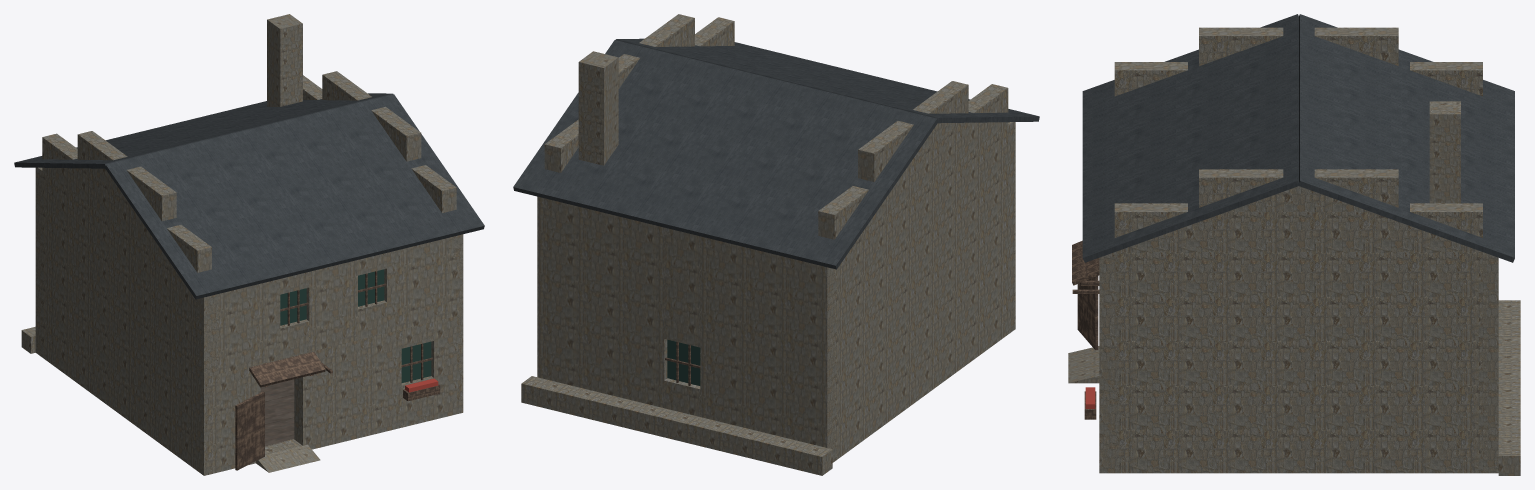
File: prop_hk_house_e.glb
3 renders of one model, left to right at view 1: azimuth 30°, elevation 25°; view 2: azimuth 150°, elevation 25°; view 3: azimuth 270°, elevation 25°, orthographic. The views are drawn at different scales.
Visible parts, largest first — view 1: building_hk_rowhouse_e; view 2: building_hk_rowhouse_e; view 3: building_hk_rowhouse_e.
Boxes of the visible parts, x1=… form: building_hk_rowhouse_e: x1=14, y1=14, x2=484, y2=475; building_hk_rowhouse_e: x1=513, y1=14, x2=1039, y2=475; building_hk_rowhouse_e: x1=1068, y1=14, x2=1520, y2=475.
Size of the model in its own units: 8.9 by 8.62 by 10.2.
7 materials, 7 textured.
